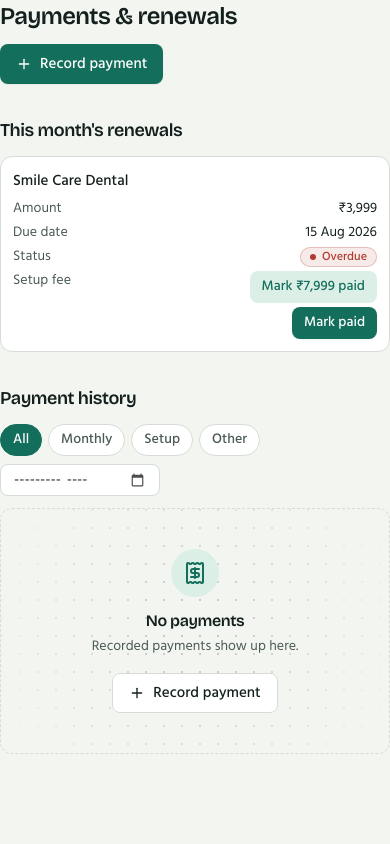
Test case: payment prefill › 'Mark paid' opens the drawer with the right client, month and amount
The width and height of the screenshot is (390, 844).
Click the button "Mark paid": coordinates (334, 323) [292,307,377,339]
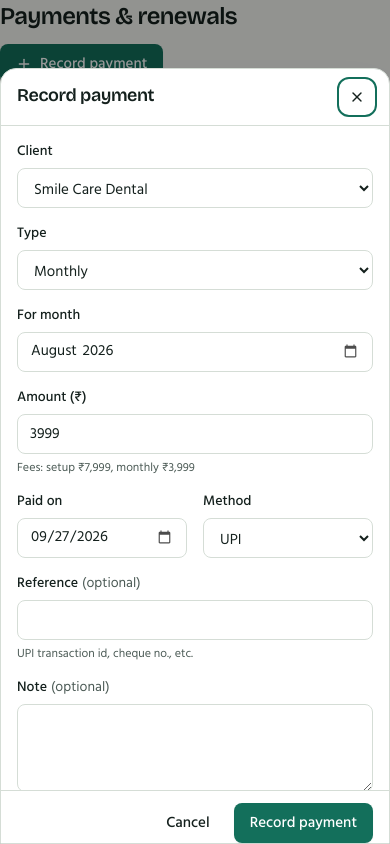
Expected: the dropdown labelled "Client" shows "Smile Care Dental", [17,168,373,208]
Expected: the dropdown labelled "Type" shows "Monthly", [17,250,373,290]
Expected: the field labelled "For month" holds "2026-08", [17,332,373,372]
